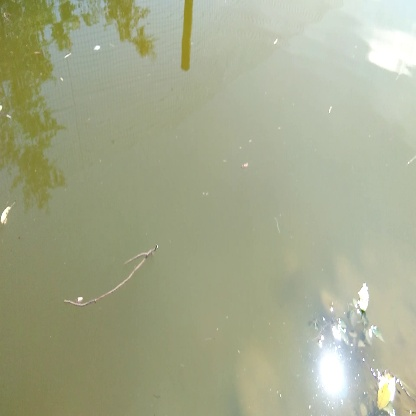branch: (61, 234, 164, 322)
